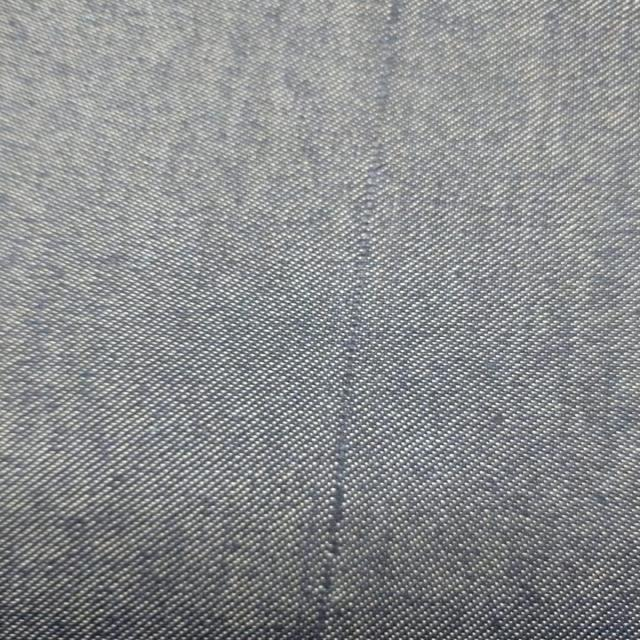Line: (310, 0, 405, 640)
